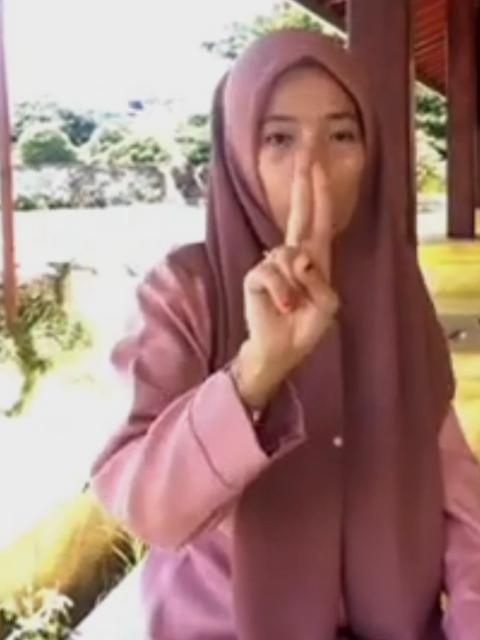U: (243, 156, 344, 372)
